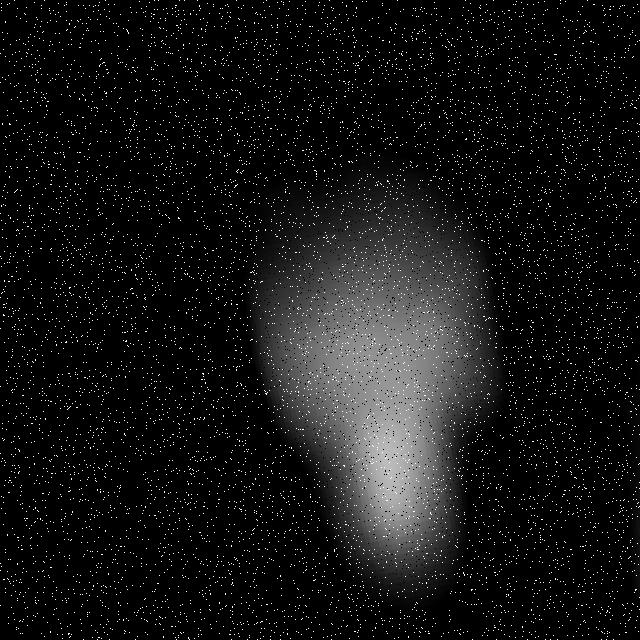person: (172, 83, 563, 640), (501, 137, 640, 605)
